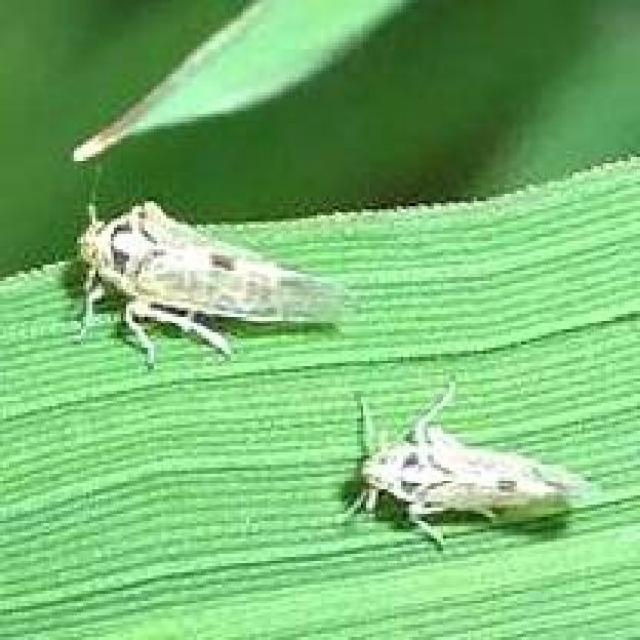brown-planthopper: (77, 198, 343, 331), (356, 431, 596, 529)
